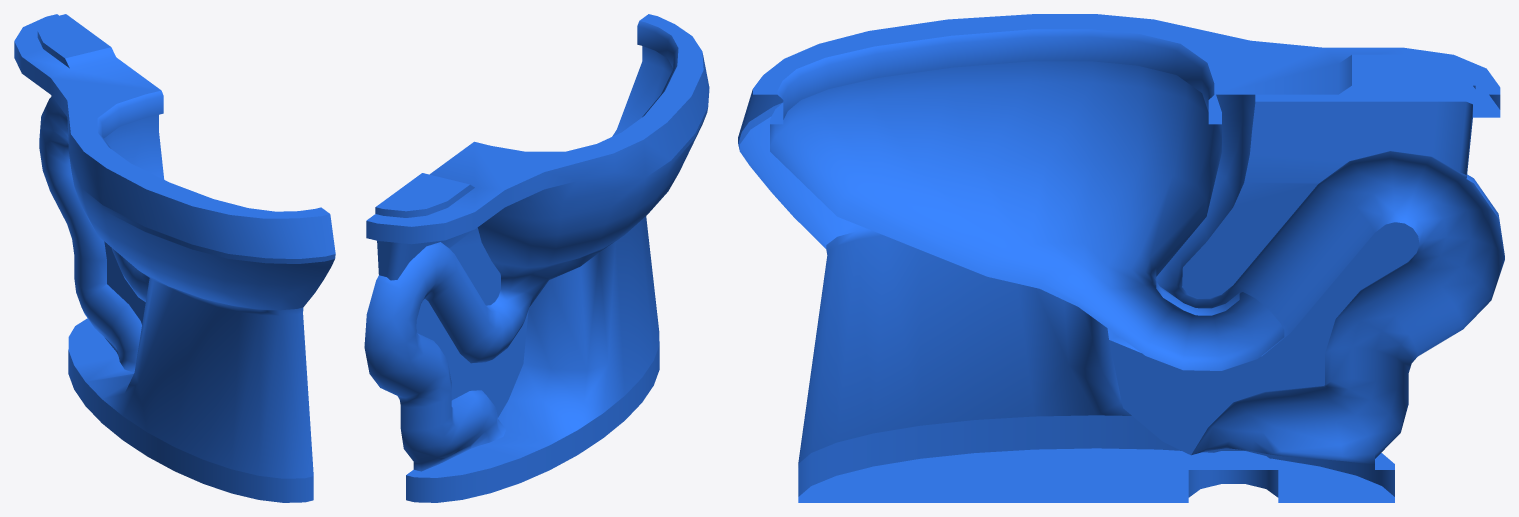
Rendered from original-13.obj.
3 views of the same model, side by side, from view 1: azimuth 30°, elevation 25°; view 2: azimuth 150°, elevation 25°; view 3: azimuth 270°, elevation 25° (orthographic). The views are drawn at different scales.
Visible parts, largest first — view 1: Bowl1/Bowl/mesh25/mesh25-geometry#mesh25-geometry; view 2: Bowl1/Bowl/mesh25/mesh25-geometry#mesh25-geometry; view 3: Bowl1/Bowl/mesh25/mesh25-geometry#mesh25-geometry.
Boxes of the visible parts, bbox=[...] form: Bowl1/Bowl/mesh25/mesh25-geometry#mesh25-geometry: bbox=[14, 14, 335, 502]; Bowl1/Bowl/mesh25/mesh25-geometry#mesh25-geometry: bbox=[364, 14, 709, 502]; Bowl1/Bowl/mesh25/mesh25-geometry#mesh25-geometry: bbox=[738, 14, 1504, 502].
Bounding box in the file's own units: 0.342 × 0.7999 × 1.33.
